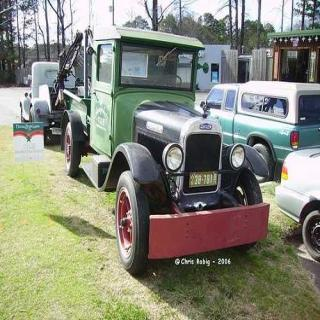Towing_truck: (33, 24, 272, 276)
